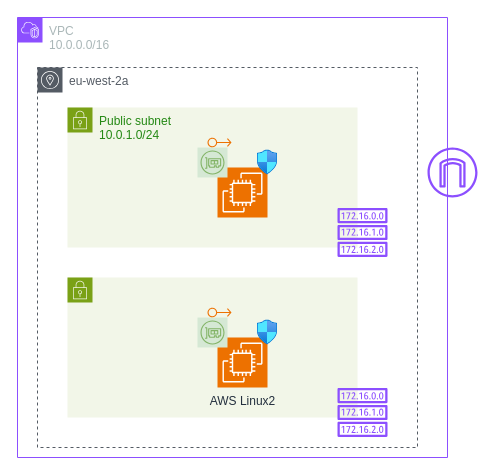
Some shapes in this 495 by 475 pixel diagram are drawn without their labels. The shapes that lost their labels are listed below. From the top down, each one's box as (x1, y1, x2, y2) in pixels, then its label:
(216, 166, 268, 218): AWS Linux1
(66, 276, 358, 418): Private subnet 10.0.2.0/24
